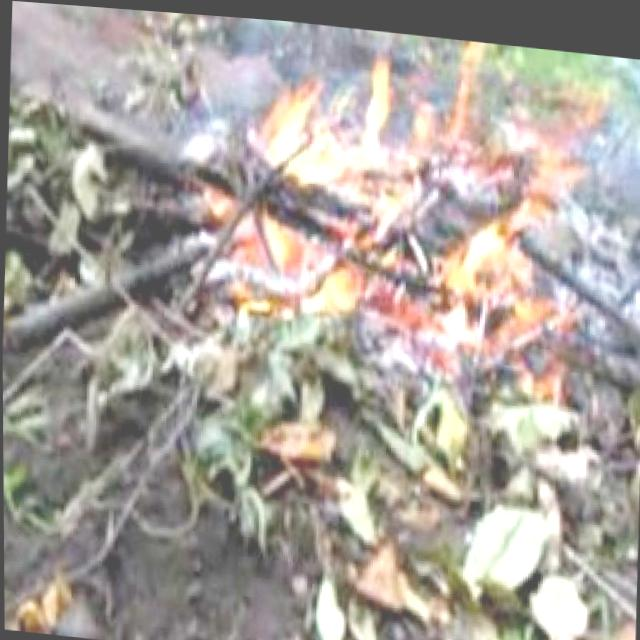helmet: (182, 11, 628, 412)
